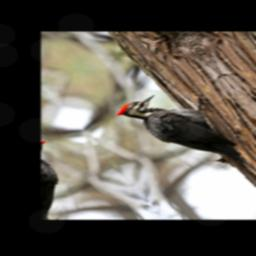Woodpecker: (110, 80, 256, 193)
